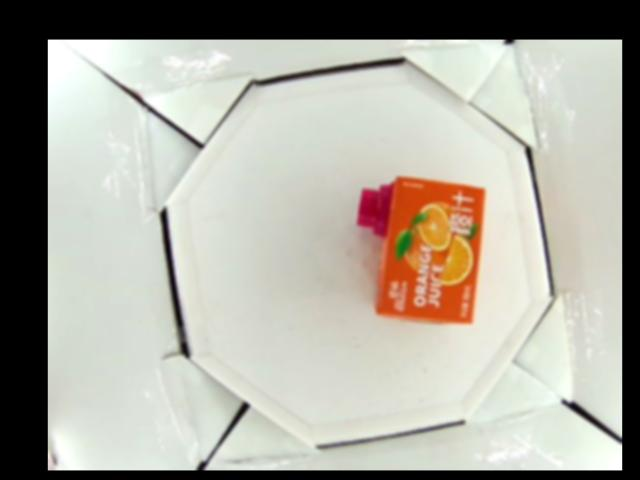Bottle: (355, 177, 486, 325)
